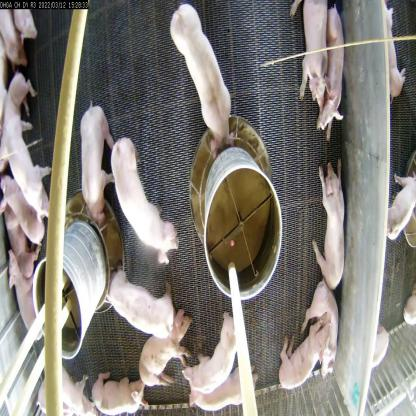Pig: (106, 130, 182, 272), (171, 0, 234, 152), (0, 69, 55, 225), (76, 92, 116, 228), (313, 164, 353, 289), (187, 310, 240, 401), (0, 207, 36, 335), (301, 262, 342, 372), (139, 313, 194, 394), (289, 0, 328, 109), (314, 13, 346, 142), (276, 316, 329, 391), (116, 272, 174, 340), (193, 362, 267, 415), (39, 357, 97, 415), (0, 177, 46, 247), (93, 365, 147, 415), (386, 164, 416, 250)
